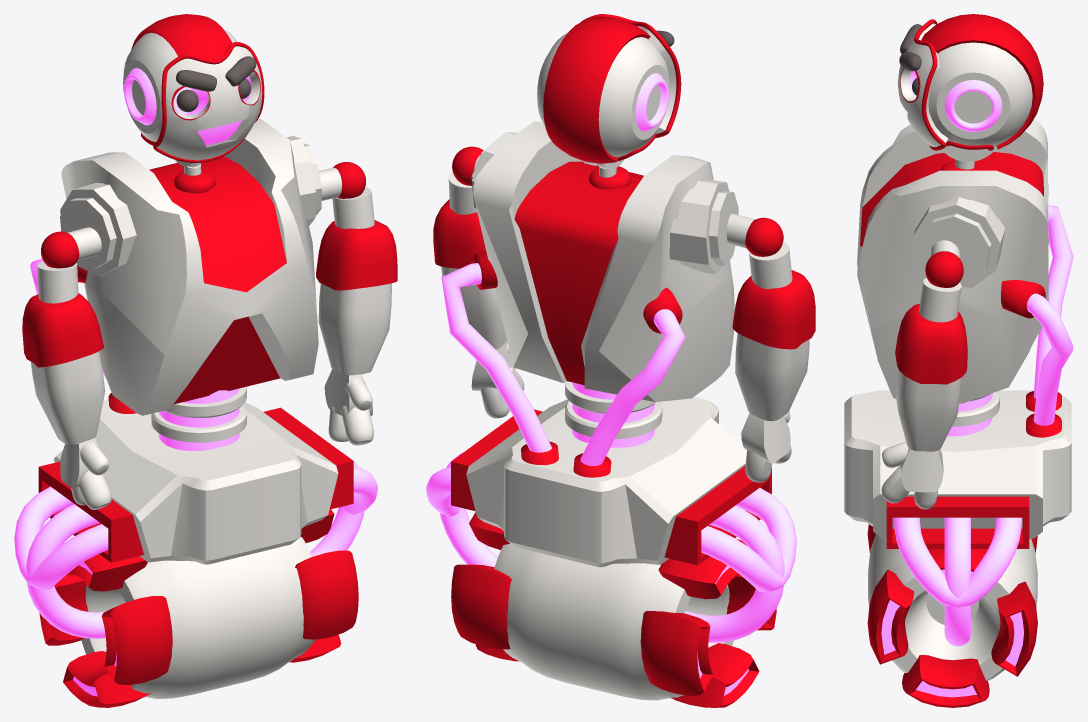
File: EnemyLaserBoss.fbx
The picture shows the model from 3 angles, left to right: view 1: azimuth 30°, elevation 25°; view 2: azimuth 150°, elevation 25°; view 3: azimuth 270°, elevation 25°; orthographic projection. The views are drawn at different scales.
Visible parts, largest first — view 1: Cube.005, Cube.002, Wheel, Wheel.003_Curve, Cube.007, Plane, Cube.008, Mask, Cylinder, Cube.006, MainHead, Cylinder.009 (+14 smaller); view 2: Cube.005, Cube.002, Wheel, Wheel.003_Curve, Plane, Cube.007, Plane.001, HeadTop, Cube.008, MainHead, Cube.006, Cylinder (+13 smaller); view 3: Cube.005, Cube.002, Wheel.003_Curve, Wheel, Plane, MainHead, Cube.007, Plane.001, Cylinder, Cube.008, Cube.006, HeadTop (+14 smaller).
Part boxes in pixels (bbox=[...]): Cube.005: bbox=[61, 119, 318, 415]; Cube.002: bbox=[54, 399, 338, 564]; Wheel: bbox=[81, 537, 314, 699]; Wheel.003_Curve: bbox=[39, 509, 358, 707]; Cube.007: bbox=[31, 283, 391, 488]; Plane: bbox=[14, 442, 377, 638]; Cube.008: bbox=[22, 220, 397, 367]; Mask: bbox=[157, 46, 262, 160]; Cylinder: bbox=[60, 136, 321, 276]; Cube.006: bbox=[38, 407, 353, 562]; MainHead: bbox=[123, 28, 251, 145]; Cylinder.009: bbox=[37, 187, 374, 303]; Cube.005: bbox=[473, 121, 734, 401]; Cube.002: bbox=[466, 397, 746, 567]; Wheel: bbox=[494, 543, 733, 700]; Wheel.003_Curve: bbox=[451, 512, 776, 707]; Plane: bbox=[426, 443, 796, 642]; Cube.007: bbox=[441, 266, 809, 463]; Plane.001: bbox=[441, 263, 685, 465]; HeadTop: bbox=[543, 18, 650, 163]; Cube.008: bbox=[433, 199, 815, 349]; MainHead: bbox=[537, 32, 669, 157]; Cube.006: bbox=[451, 409, 771, 565]; Cylinder: bbox=[471, 132, 738, 274]; Cube.005: bbox=[857, 119, 1048, 403]; Cube.002: bbox=[844, 390, 1071, 538]; Wheel.003_Curve: bbox=[867, 524, 1037, 707]; Wheel: bbox=[868, 534, 1037, 680]; Plane: bbox=[893, 517, 1022, 646]; MainHead: bbox=[909, 42, 1032, 146]; Cube.007: bbox=[896, 369, 961, 492]; Plane.001: bbox=[1026, 205, 1073, 425]; Cylinder: bbox=[913, 197, 1004, 287]; Cube.008: bbox=[895, 304, 967, 384]; Cube.006: bbox=[886, 496, 1029, 548]; HeadTop: bbox=[921, 14, 1043, 149].
Size of the model in its own units: 27.37 by 47.72 by 15.45.
